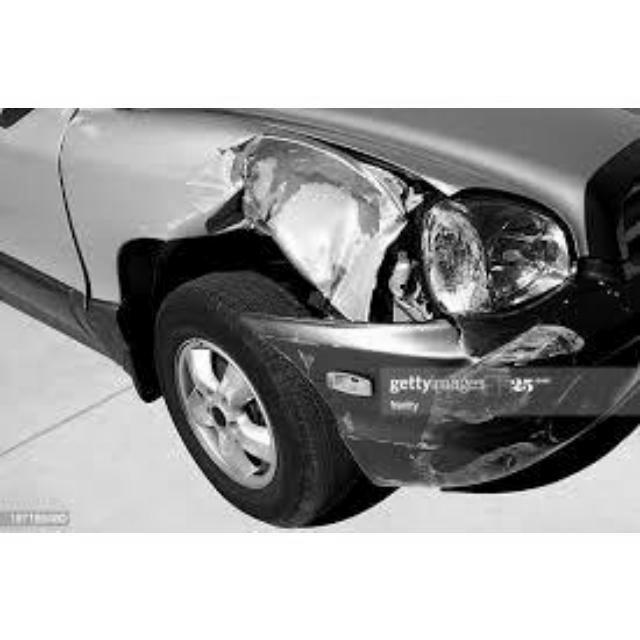Headlight-damage: (405, 186, 581, 318)
fender-dent: (78, 117, 401, 324)
front-bumper-dent: (249, 317, 633, 486)
